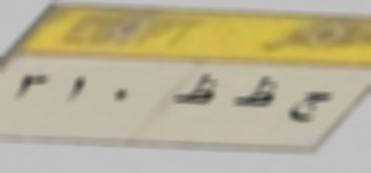0: (98, 82, 138, 113)
1: (63, 70, 88, 112)
3: (12, 68, 48, 108)
Thaa: (232, 71, 280, 116), (172, 72, 226, 108)
jeem: (286, 80, 334, 130)
